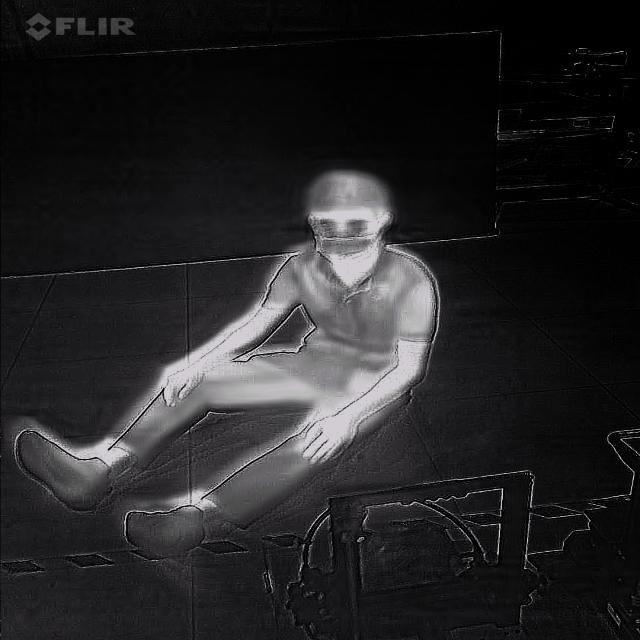Victim: (14, 166, 444, 556)
